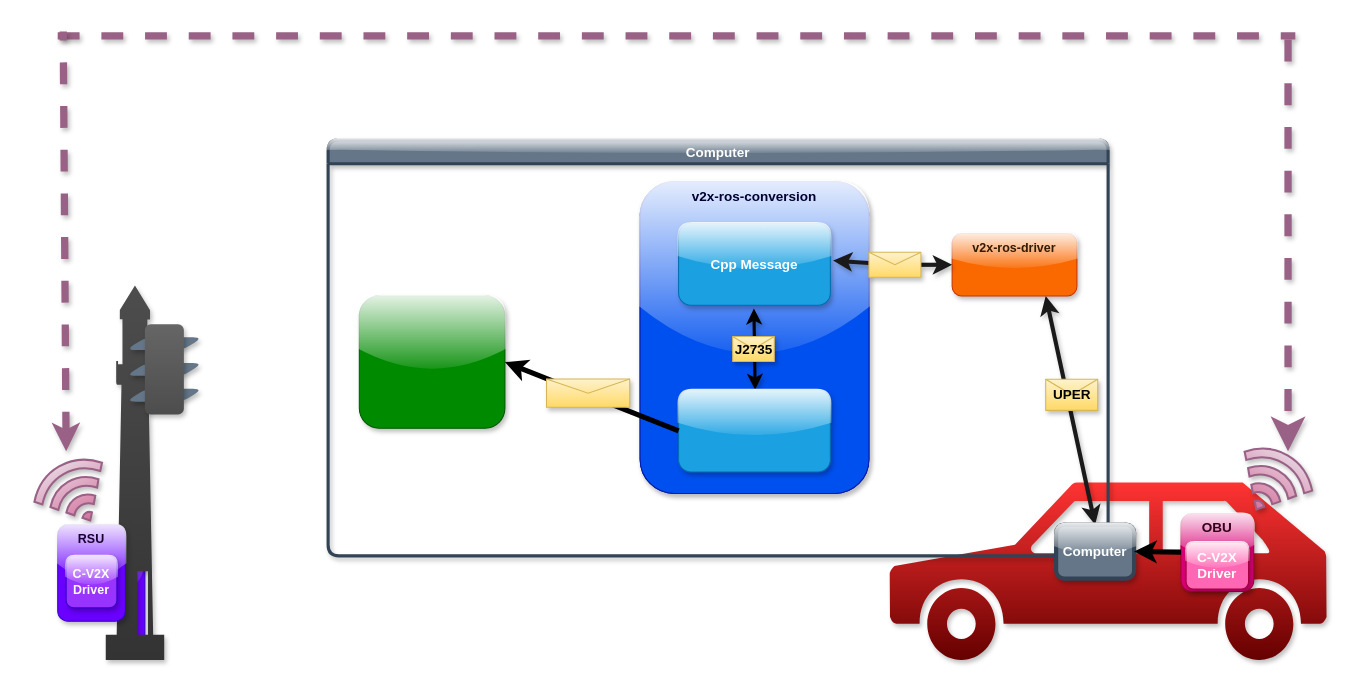
Some shapes in this 1351 by 685 pixel diagram are drawn without their labels. Each missing label, with the centre of its shape:
"Binary" goes at [895,266].
"CARMA V2X" goes at [588,394].
"Consumer" goes at [432,363].
"J2735 Convertor" goes at [755,432].
